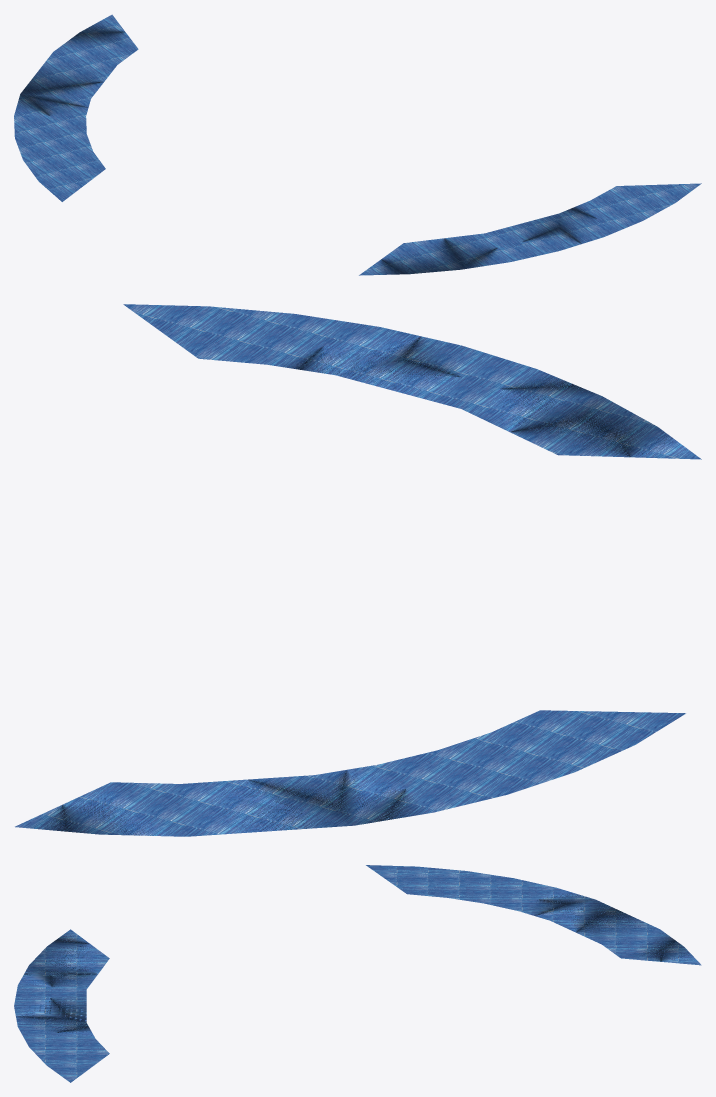
File: fifth_2.obj
3 renders of one model, top to bottom at view 1: azimuth 30°, elevation 25°; view 2: azimuth 150°, elevation 25°; view 3: azimuth 270°, elevation 25°, orthographic. The views are drawn at different scales.
Visible parts, largest first — view 1: Line008, Line009; view 2: Line008, Line009; view 3: Line008, Line009.
Part boxes in pixels (x1,y1,x2,y2): Line008: (14,14,138,201); Line009: (359,183,701,275); Line008: (15,710,685,836); Line009: (123,304,701,459); Line008: (366,865,701,965); Line009: (14,929,109,1082).
Bounding box in the file's own units: 834 × 19.29 × 1057.
